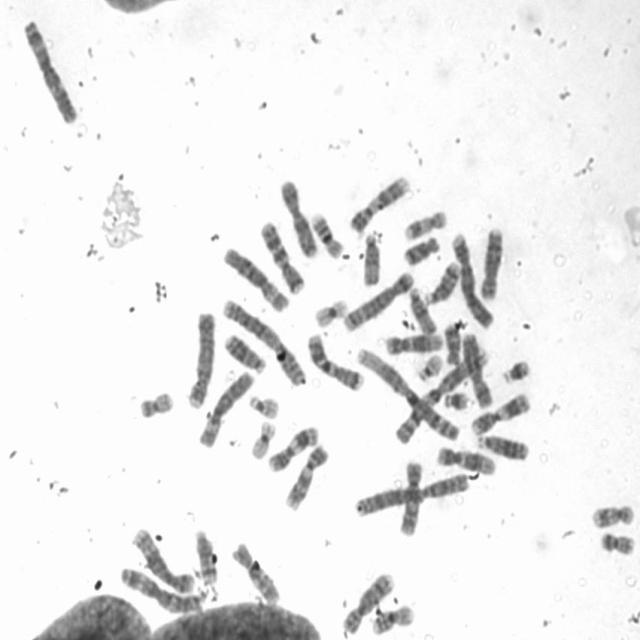A1: (353, 345, 461, 442), (392, 344, 490, 445)
A2: (219, 294, 307, 387), (353, 468, 471, 518)
A3: (18, 13, 81, 125), (116, 562, 205, 616)
B4: (449, 229, 496, 329), (183, 305, 218, 410)
B5: (340, 266, 417, 333), (128, 523, 196, 594)
C10: (229, 538, 282, 606), (396, 456, 425, 536)
C11: (469, 388, 533, 437), (264, 422, 320, 473)
C12: (434, 442, 499, 477), (382, 327, 446, 356)
C6: (219, 242, 291, 314), (194, 366, 256, 449)
C7: (304, 328, 365, 394), (255, 215, 305, 295)
C8: (338, 568, 396, 636), (477, 222, 505, 300)
C9: (345, 170, 412, 234), (282, 440, 331, 512)
D13: (220, 328, 268, 374), (474, 428, 531, 462)
D14: (420, 258, 463, 306), (190, 523, 220, 585)
D15: (406, 283, 439, 336), (359, 226, 383, 288)
E16: (308, 207, 348, 259), (368, 600, 415, 637)
E17: (399, 205, 448, 241), (588, 500, 636, 530)
E18: (398, 231, 441, 267), (440, 319, 462, 366)
F19: (248, 415, 278, 461), (311, 294, 350, 328)
F20: (136, 387, 175, 420), (596, 527, 636, 556)
G21: (499, 354, 533, 386), (441, 387, 472, 412)
G22: (414, 349, 444, 382), (246, 391, 281, 419)
X: (277, 174, 319, 258), (459, 328, 495, 409)
